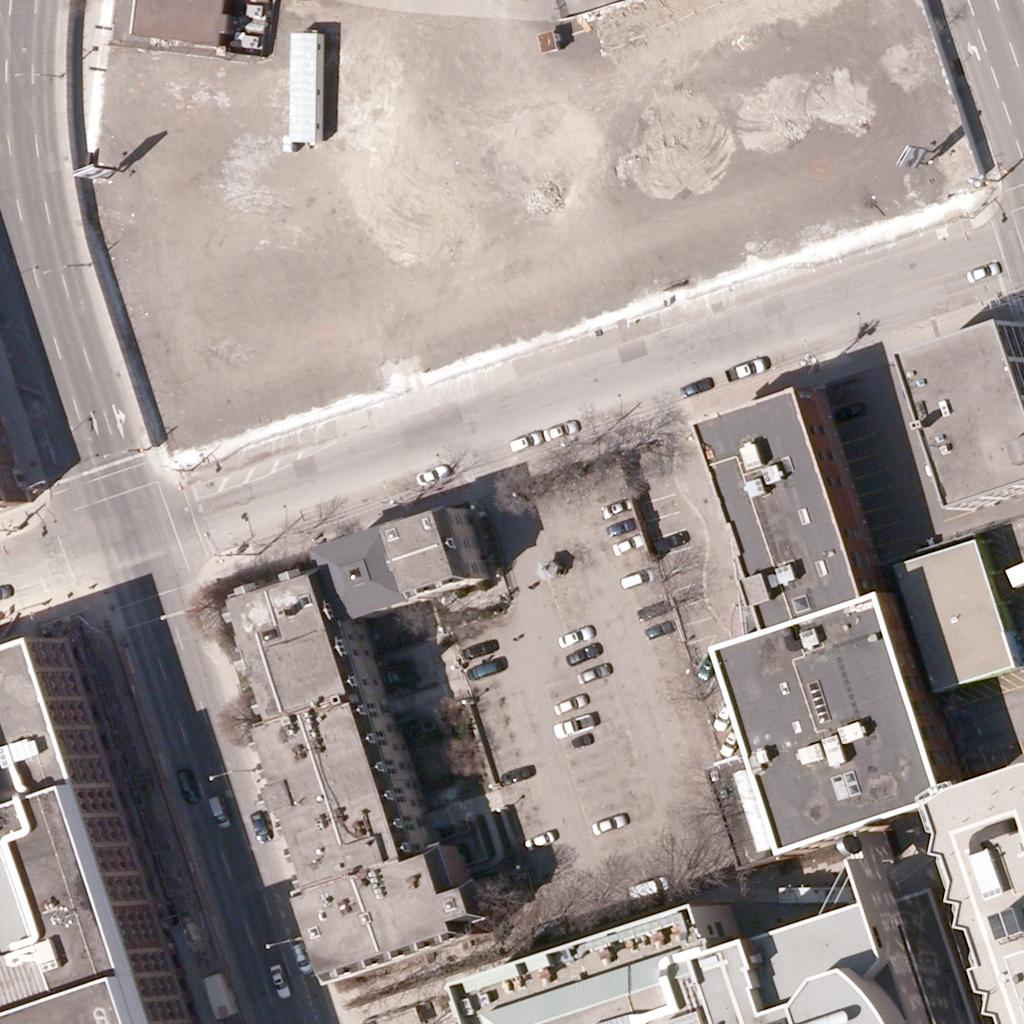car: (963, 255, 997, 289), (726, 352, 760, 386), (675, 368, 709, 402), (830, 394, 864, 428), (540, 414, 574, 448), (505, 425, 539, 459), (411, 459, 445, 493), (601, 488, 635, 522), (603, 508, 637, 542), (652, 523, 686, 557), (608, 526, 642, 560), (622, 560, 656, 594), (636, 590, 670, 624), (642, 612, 676, 646), (556, 618, 590, 652), (457, 630, 491, 664), (560, 637, 594, 671), (689, 649, 723, 683), (461, 650, 495, 684), (575, 655, 609, 689), (551, 687, 585, 721), (705, 699, 739, 733), (550, 709, 584, 743), (713, 722, 747, 756), (560, 724, 594, 758), (497, 757, 531, 791), (169, 767, 203, 801), (200, 793, 234, 827), (588, 805, 622, 839), (241, 808, 275, 842), (519, 822, 553, 856), (632, 869, 666, 903), (281, 938, 315, 972), (261, 963, 295, 997)
